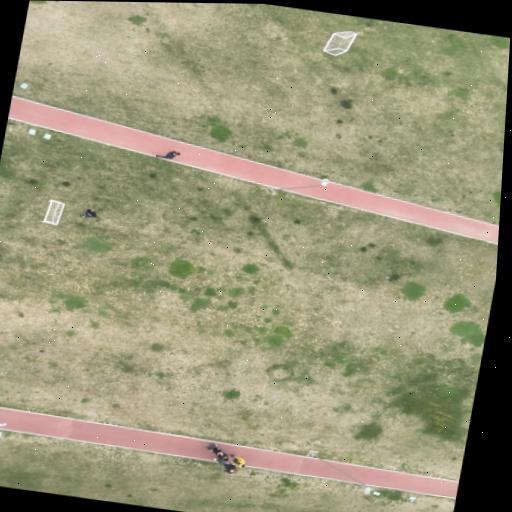person: (204, 442, 228, 460), (214, 458, 236, 472), (155, 150, 179, 159), (230, 455, 245, 467), (81, 208, 96, 217)
